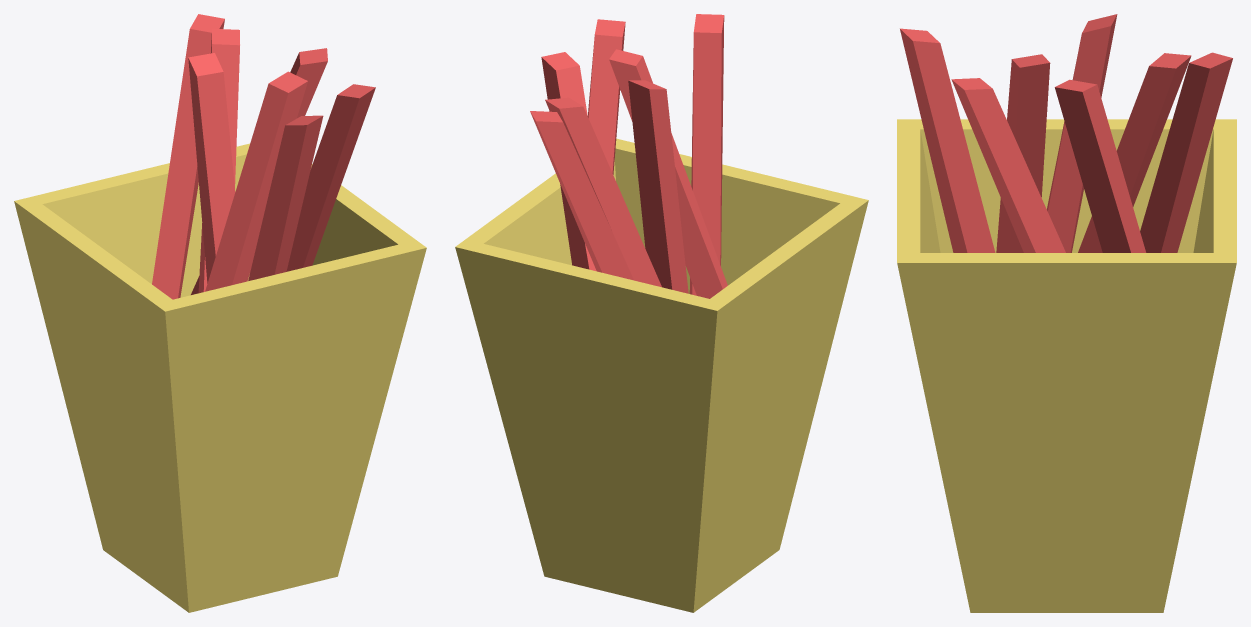
Rendered from Patatas (1).fbx.
3 renders of one model, left to right at view 1: azimuth 30°, elevation 25°; view 2: azimuth 150°, elevation 25°; view 3: azimuth 270°, elevation 25°, orthographic. The views are drawn at different scales.
Parts seen in each view (by area): view 1: pCube1, pCube3, pCube6, pCube2, pCube7, pCube8, pCube4, pCube5; view 2: pCube1, pCube2, pCube8, pCube6, pCube4, pCube3, pCube7, pCube5; view 3: pCube1, pCube8, pCube6, pCube5, pCube7, pCube4, pCube3, pCube2.
Part boxes in pixels (box(x1,y1,x2,y2)): pCube1: box(14, 143, 426, 612); pCube3: box(205, 71, 307, 291); pCube6: box(152, 14, 224, 299); pCube2: box(188, 53, 235, 283); pCube7: box(286, 84, 375, 271); pCube8: box(248, 115, 323, 280); pCube4: box(198, 28, 239, 293); pCube5: box(191, 48, 327, 294); pCube1: box(455, 138, 868, 612); pCube2: box(628, 80, 688, 293); pCube8: box(689, 14, 724, 295); pCube6: box(530, 111, 633, 280); pCube4: box(545, 97, 661, 287); pCube3: box(609, 49, 727, 298); pCube7: box(587, 19, 625, 174); pCube5: box(541, 52, 596, 271); pCube1: box(897, 119, 1236, 612); pCube8: box(900, 28, 995, 252); pCube6: box(1140, 52, 1232, 252); pCube5: box(1054, 79, 1146, 252); pCube7: box(951, 78, 1065, 252); pCube4: box(1078, 53, 1191, 252); pCube3: box(996, 54, 1050, 252); pCube2: box(1047, 14, 1117, 252).
Bounding box in the file's own units: 1.76 × 3.16 × 1.76.
